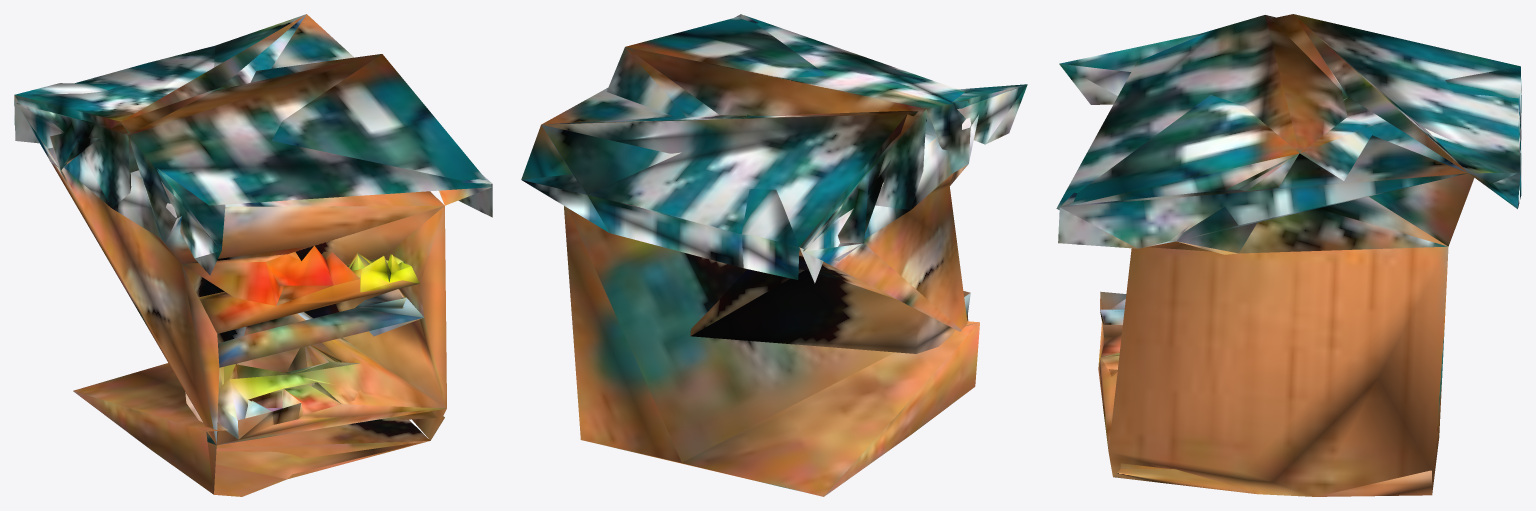
File: kiosk-far.glb
The picture shows the model from 3 angles, left to right: view 1: azimuth 30°, elevation 25°; view 2: azimuth 150°, elevation 25°; view 3: azimuth 270°, elevation 25°; orthographic projection. The views are drawn at different scales.
Visible parts, largest first — view 1: kiosk-far; view 2: kiosk-far; view 3: kiosk-far.
Part boxes in pixels (<box>): kiosk-far: <box>14,14,492,496</box>; kiosk-far: <box>521,14,1027,496</box>; kiosk-far: <box>1056,14,1521,496</box>.
Bounding box in the file's own units: 2.97 × 3.31 × 3.96.
Materials: 1 (1 with a texture image).
